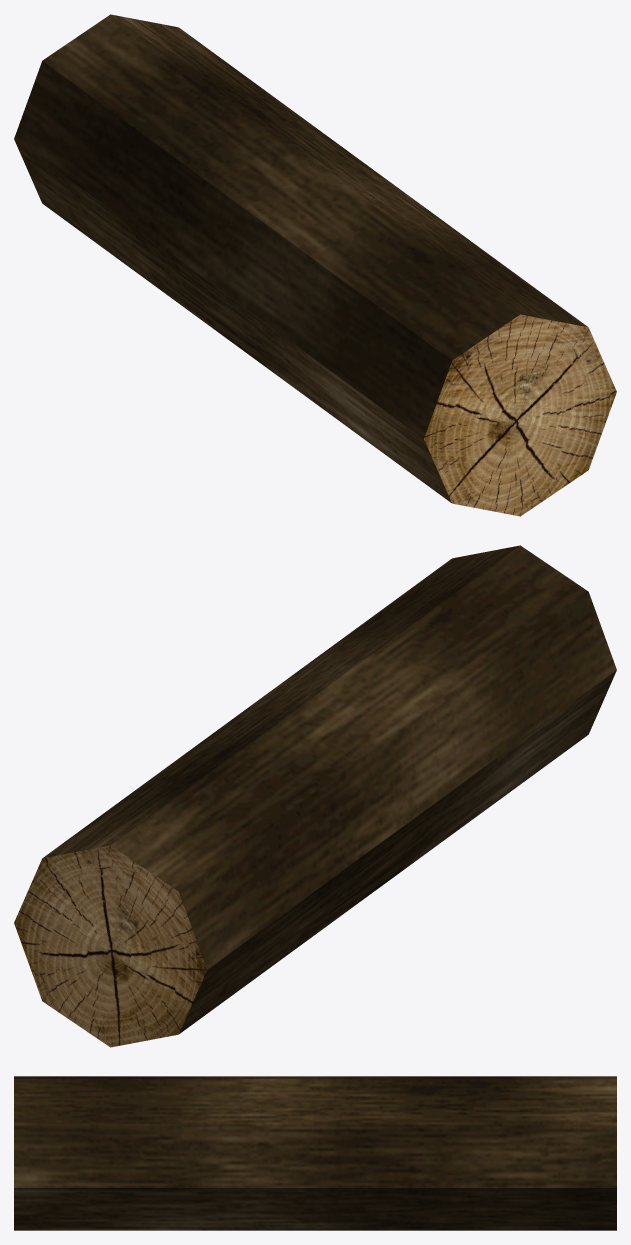
Rendered from WoodLog.fbx.
3 views of the same model, one above another, from view 1: azimuth 30°, elevation 25°; view 2: azimuth 150°, elevation 25°; view 3: azimuth 270°, elevation 25° (orthographic). The views are drawn at different scales.
Parts seen in each view (by area): view 1: Cylinder; view 2: Cylinder; view 3: Cylinder.
Boxes of the visible parts, bbox=[...] form: Cylinder: bbox=[14, 14, 616, 516]; Cylinder: bbox=[14, 545, 616, 1047]; Cylinder: bbox=[14, 1076, 616, 1230].
Bounding box in the file's own units: 0.5052 × 0.5052 × 1.86.
Materials: 1 (1 with a texture image).
